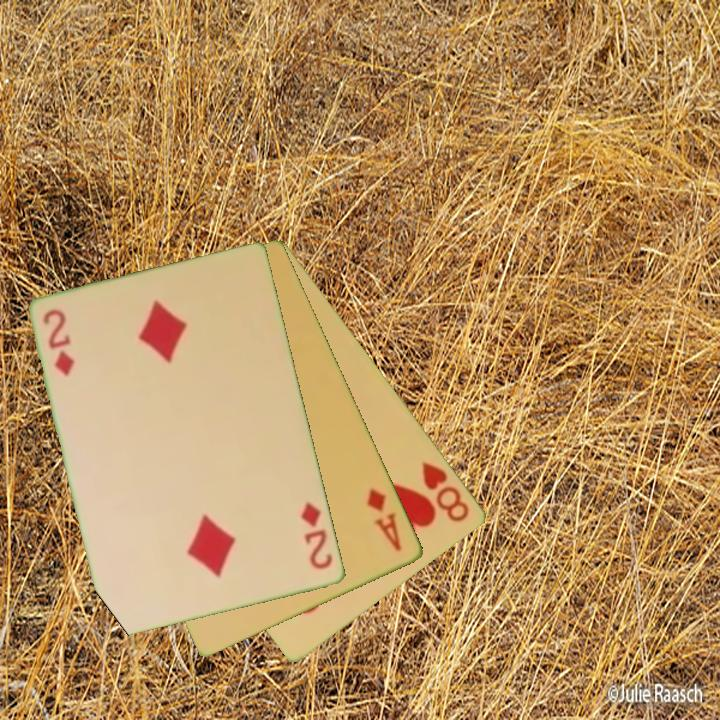2d: (297, 498, 337, 573), (40, 306, 78, 380)
8h: (419, 458, 473, 525)
Ad: (363, 485, 405, 555)
